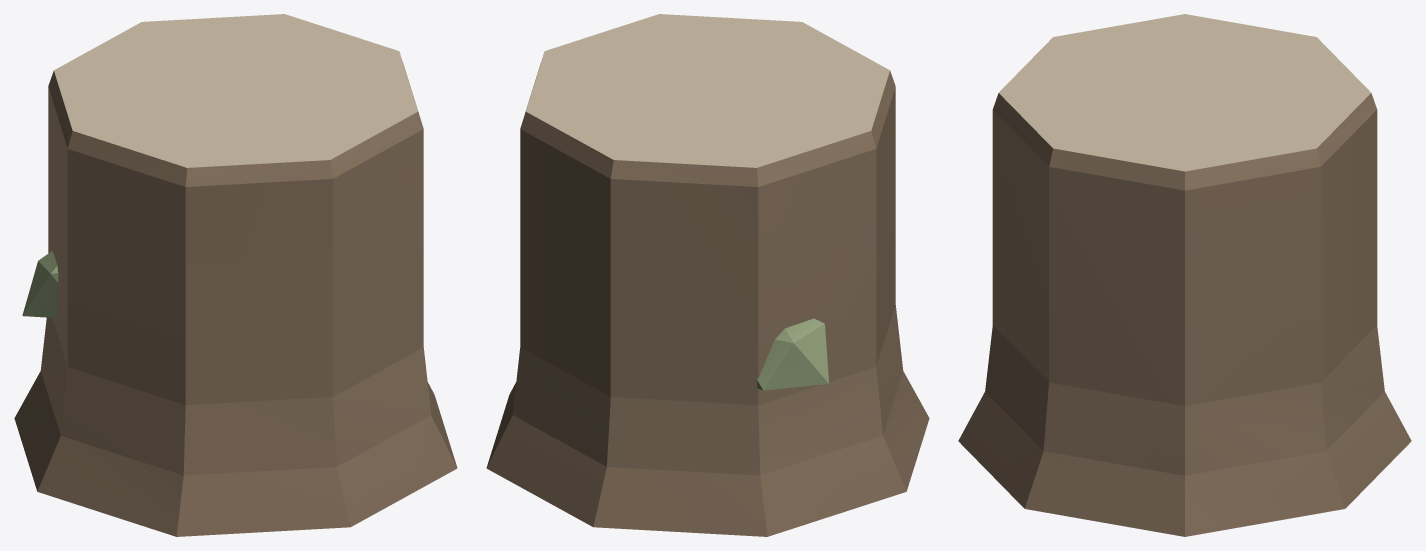
Rendered from log_stool_low.glb.
The picture shows the model from 3 angles, left to right: view 1: azimuth 30°, elevation 25°; view 2: azimuth 150°, elevation 25°; view 3: azimuth 270°, elevation 25°; orthographic projection.
Parts seen in each view (by area): view 1: log_stool; view 2: log_stool; view 3: log_stool.
Part boxes in pixels (left/top/right/bottom): log_stool: left=14, top=14, right=457, bottom=536; log_stool: left=486, top=14, right=929, bottom=536; log_stool: left=958, top=14, right=1411, bottom=536.
Bounding box in the file's own units: 0.4956 × 0.42 × 0.4956.
